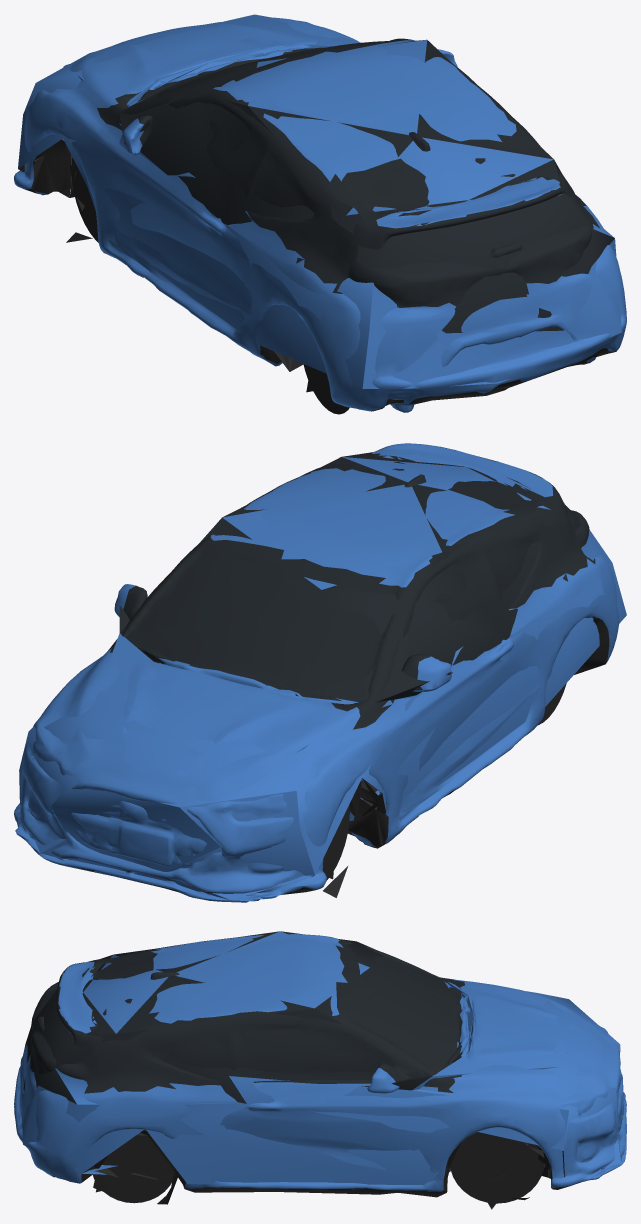
Rendered from hyundai-veloster.glb.
3 views of the same model, one above another, from view 1: azimuth 30°, elevation 25°; view 2: azimuth 150°, elevation 25°; view 3: azimuth 270°, elevation 25° (orthographic). The views are drawn at different scales.
Parts seen in each view (by area): view 1: body, far; view 2: body, far; view 3: body, far.
Boxes of the visible parts, box(x1,y1,x2,y2) form: body: box(14, 17, 626, 414); far: box(18, 14, 621, 392); body: box(14, 443, 619, 902); far: box(19, 452, 626, 899); body: box(14, 934, 626, 1204); far: box(14, 931, 621, 1209).
Bounding box in the file's own units: 2.17 × 1.52 × 4.29.
